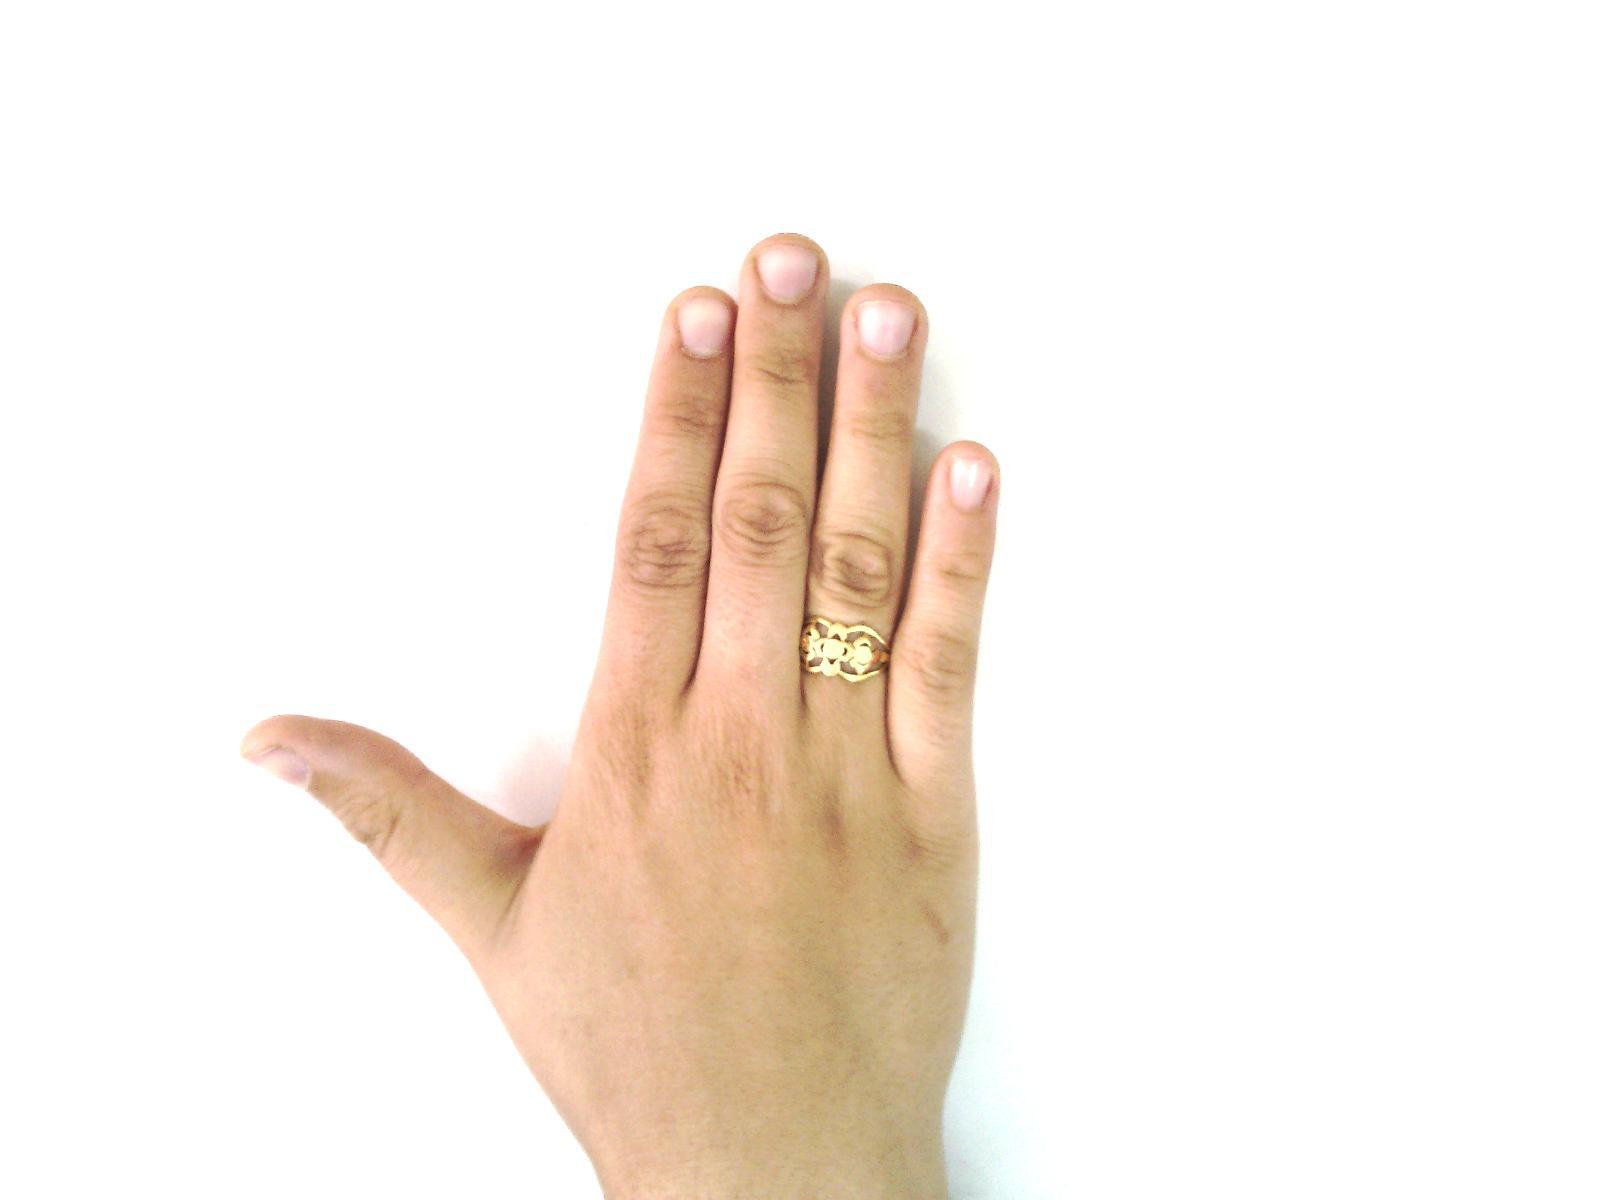hand: (236, 227, 988, 1199)
